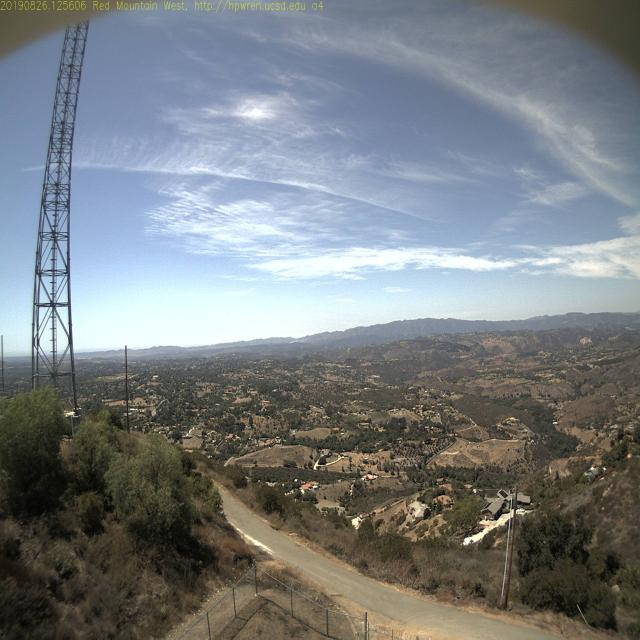smoke: (286, 336, 299, 346)
